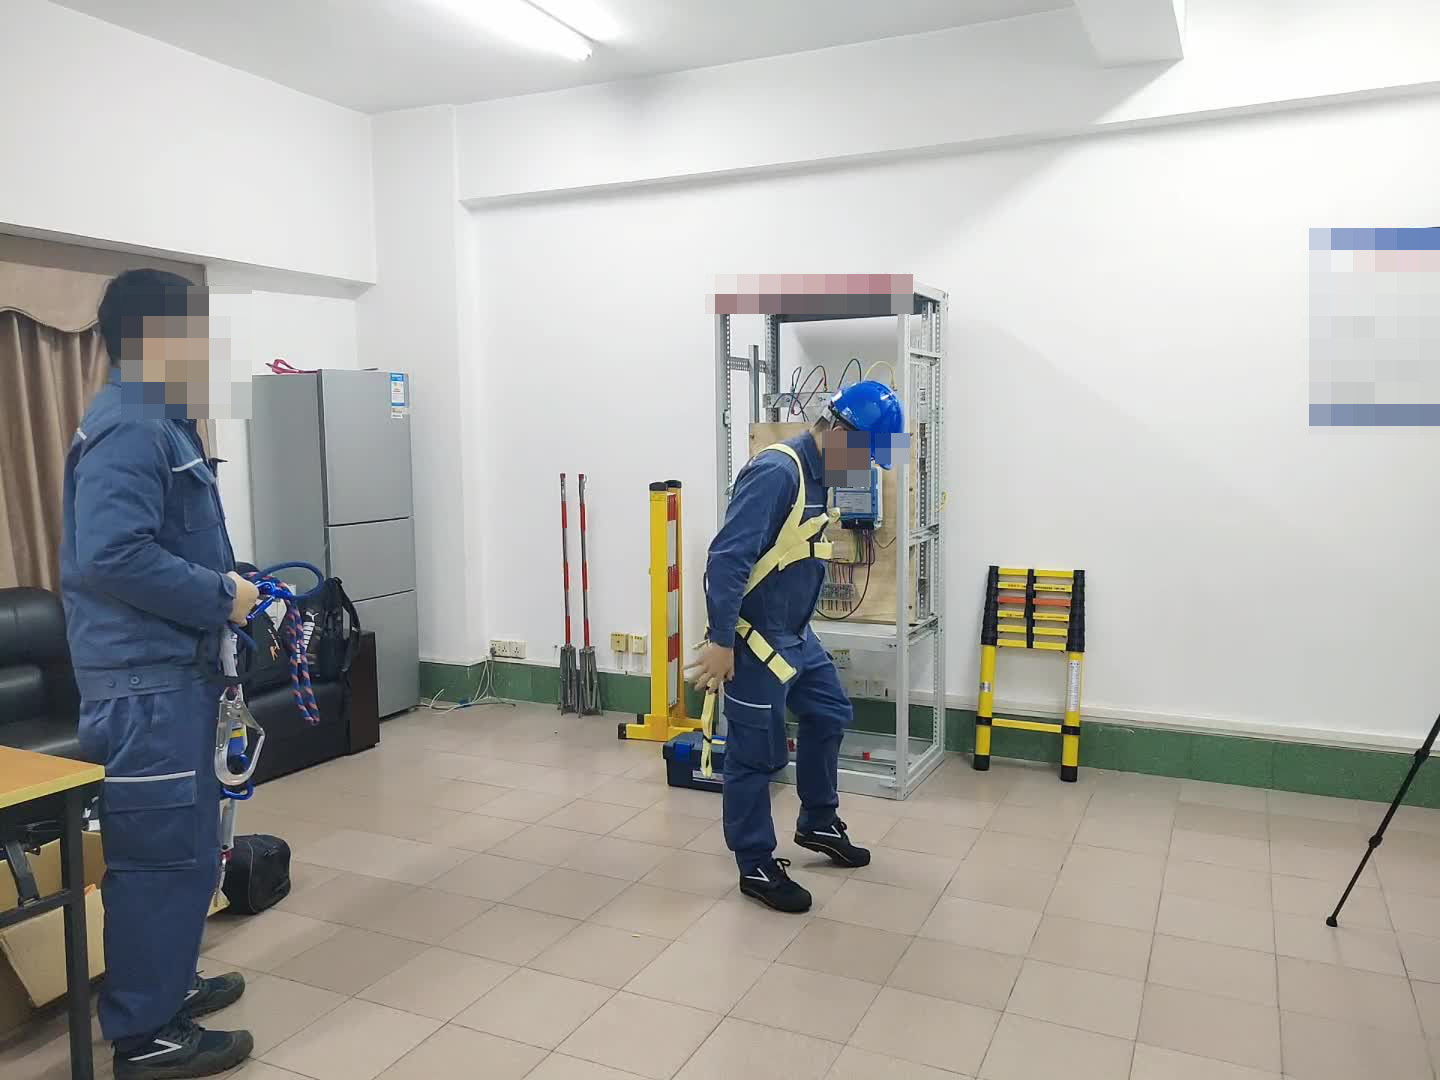downsuit: (76, 699, 232, 1050), (715, 630, 851, 857)
halt: (827, 379, 907, 476)
hand: (682, 633, 742, 687), (220, 570, 264, 627)
inear: (822, 419, 856, 474)
noear: (128, 316, 187, 380)
person: (53, 263, 285, 1080), (700, 375, 907, 900)
safebelt: (690, 441, 853, 780)
unhalt: (90, 269, 219, 398)
upsuit: (62, 389, 231, 686), (715, 429, 827, 637)
